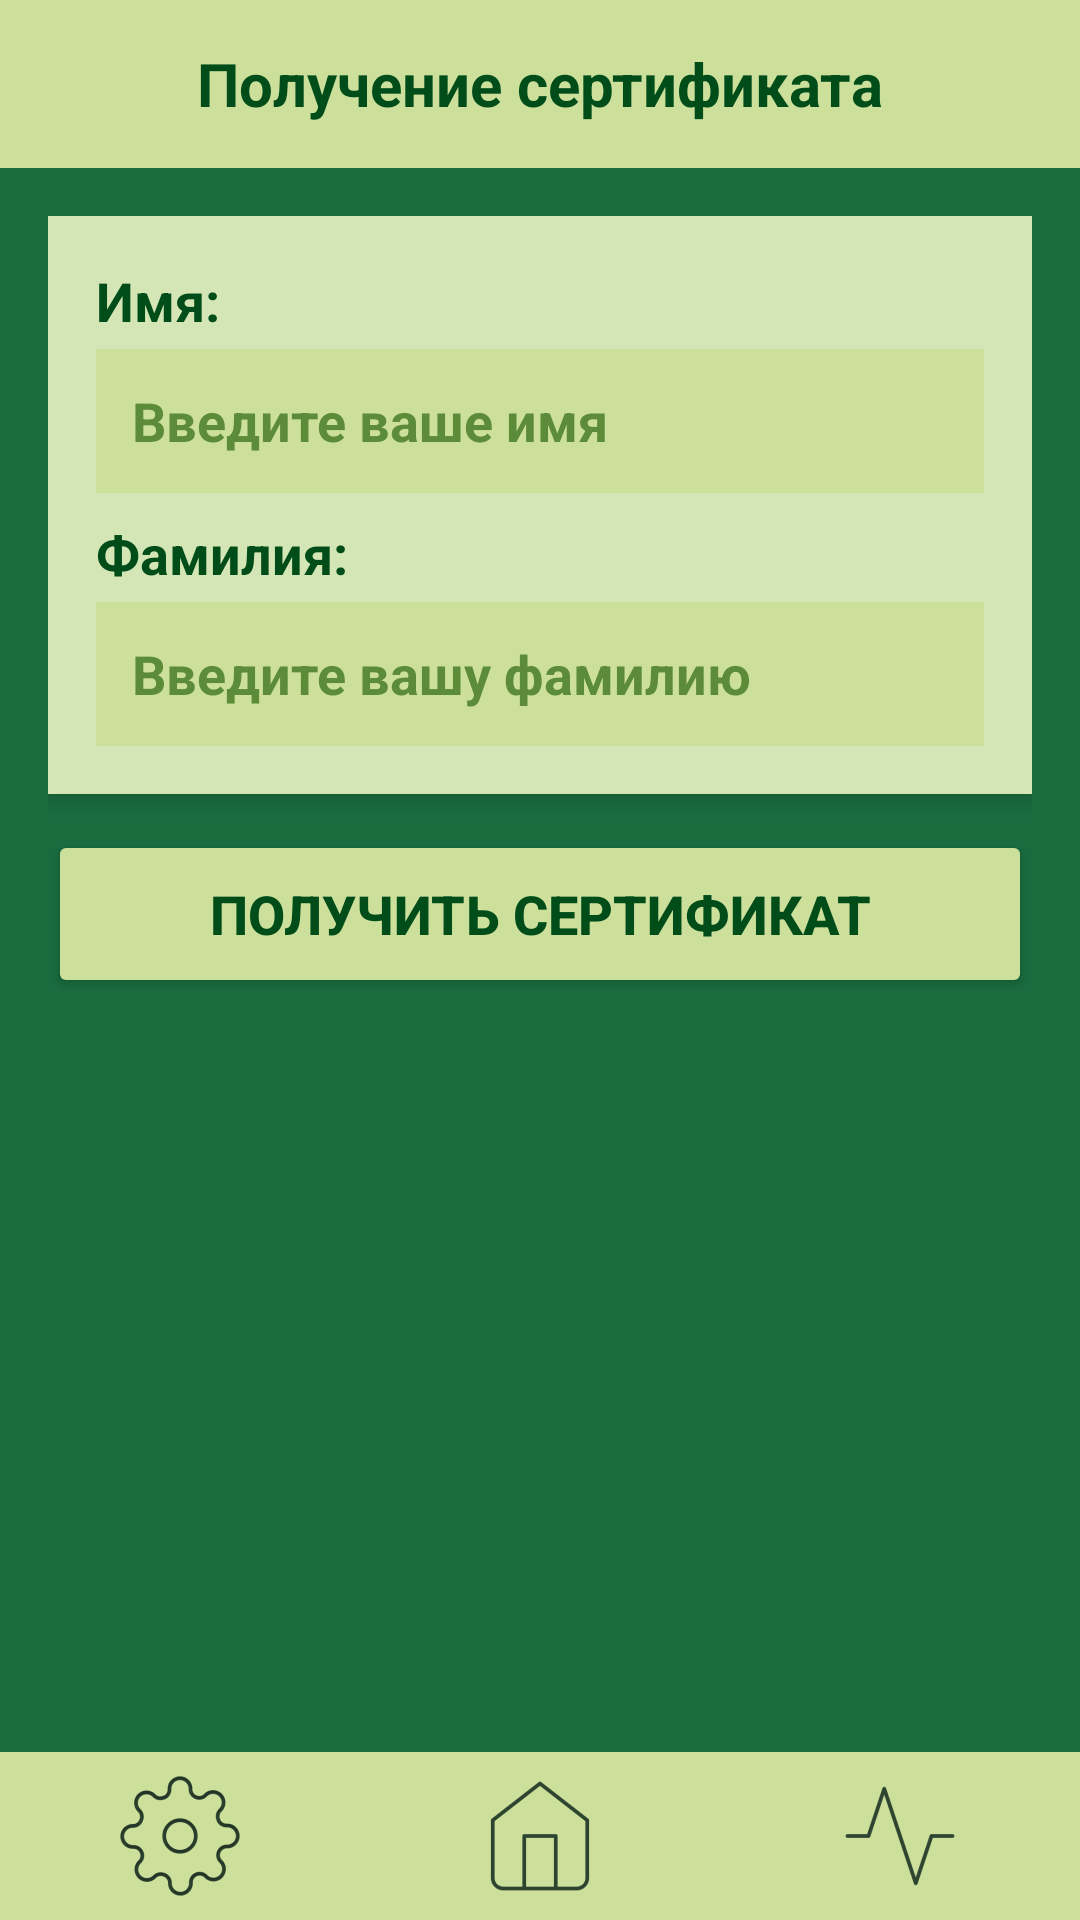

Where to tap for icons on this 1080 x 1920 app screen, as (x=x, y=y):
home: (x=540, y=1836)
setting: (x=180, y=1836)
stats: (x=900, y=1836)
